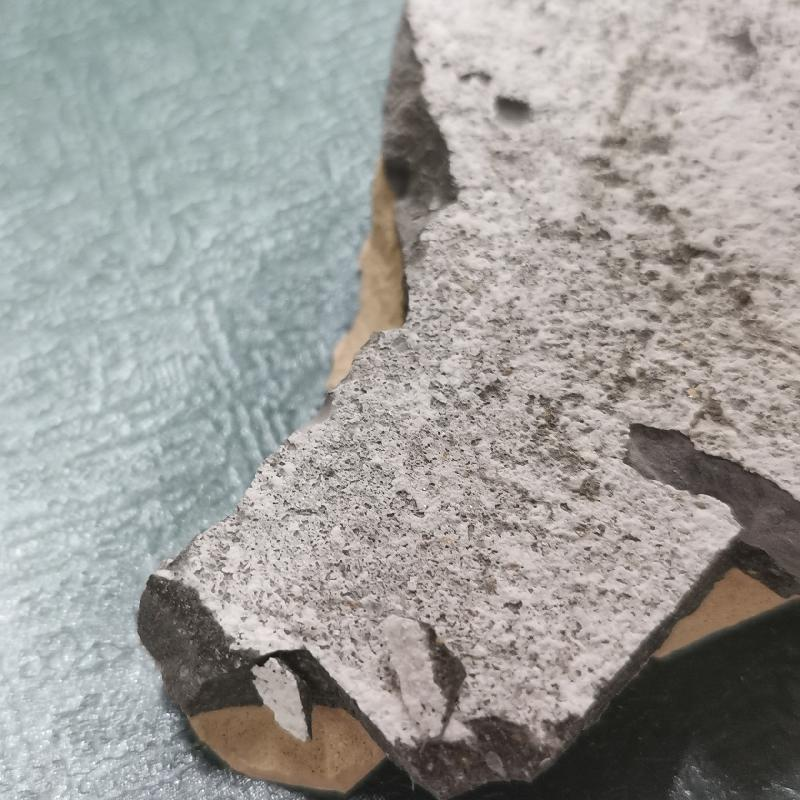tile: (129, 2, 799, 790)
